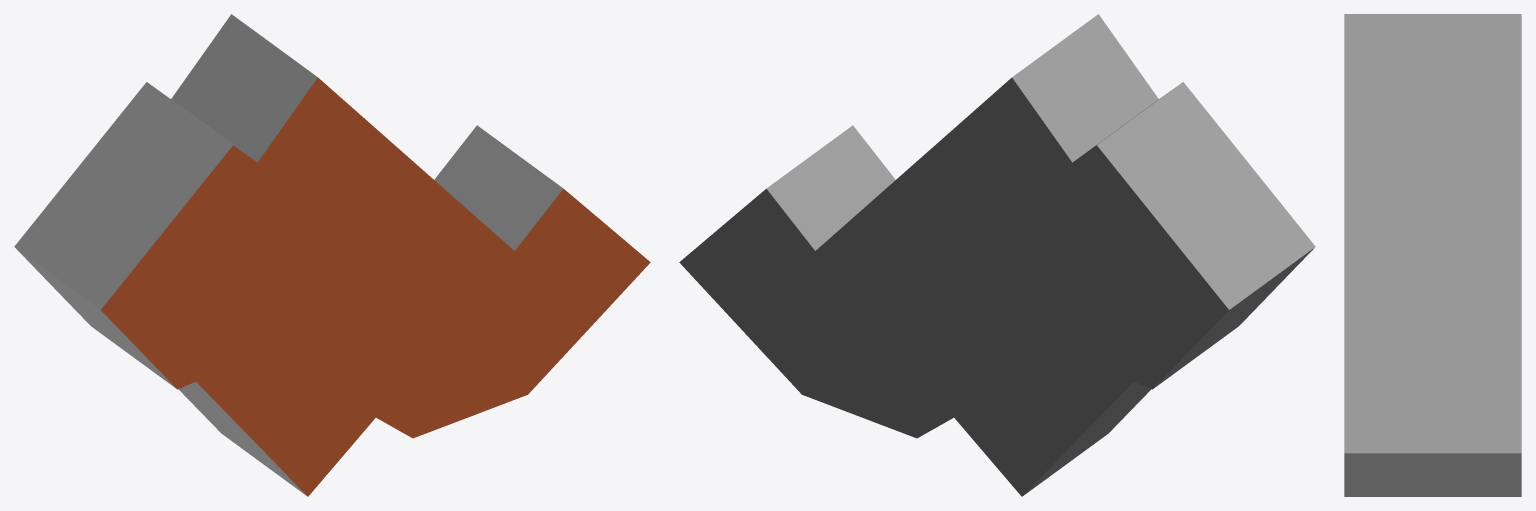
Rendered from construction_3220_assumed_A_Casa_h6m.obj.
3 renders of one model, left to right at view 1: azimuth 30°, elevation 25°; view 2: azimuth 150°, elevation 25°; view 3: azimuth 270°, elevation 25°, orthographic. The views are drawn at different scales.
Parts seen in each view (by area): view 1: construction_3220_assumed_A_Casa; view 2: construction_3220_assumed_A_Casa; view 3: construction_3220_assumed_A_Casa.
Part boxes in pixels (left/top/right/bottom): construction_3220_assumed_A_Casa: left=14, top=14, right=650, bottom=496; construction_3220_assumed_A_Casa: left=679, top=14, right=1315, bottom=496; construction_3220_assumed_A_Casa: left=1344, top=14, right=1521, bottom=496.
Bounding box in the file's own units: 22.01 × 15.95 × 6.
